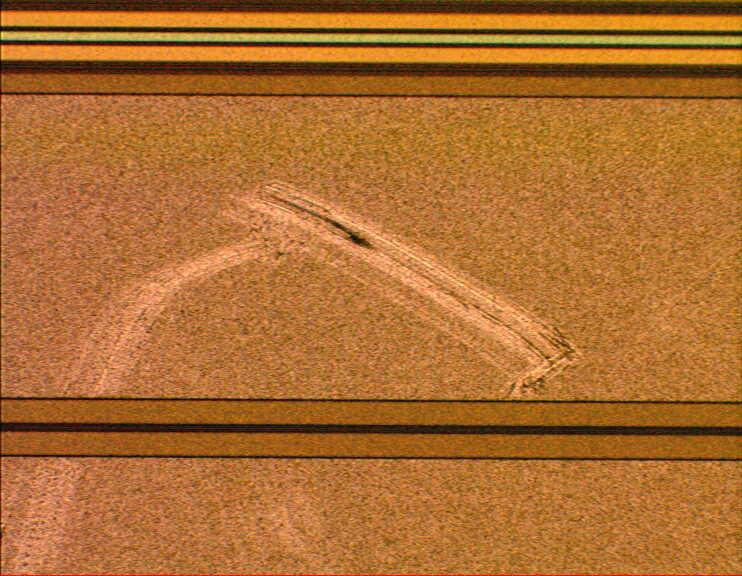SCRATCH: (1, 167, 590, 576)
